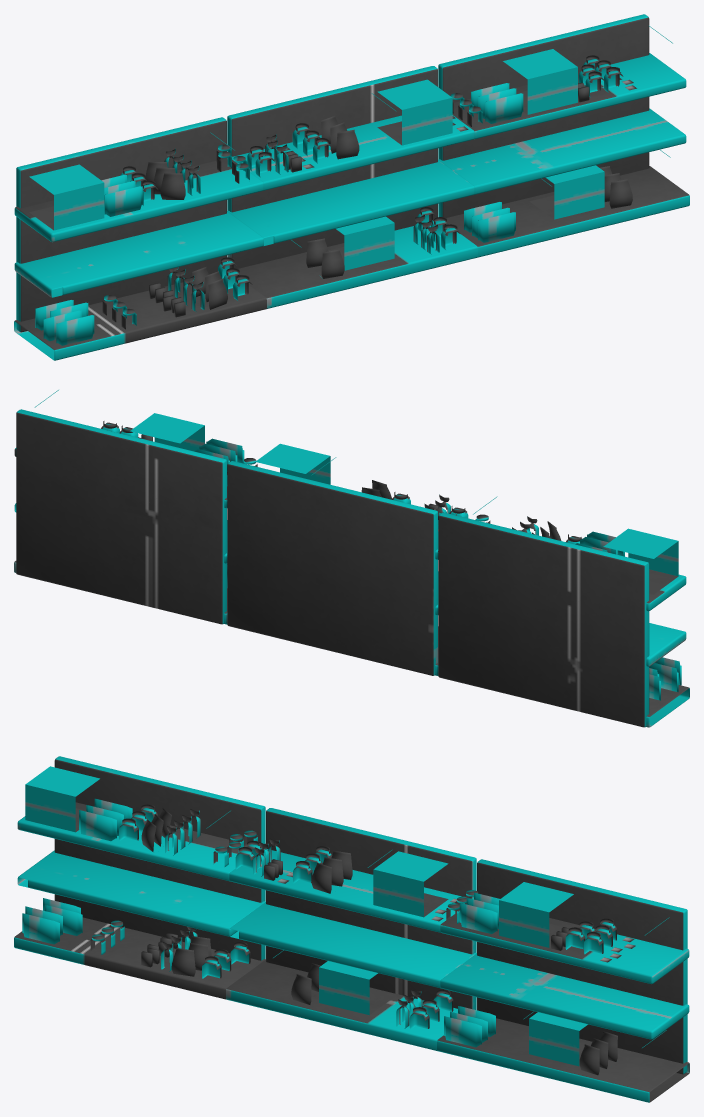
The model's file is RepartoPaneDolci.fbx.
The picture shows the model from 3 angles, top to bottom: view 1: azimuth 30°, elevation 25°; view 2: azimuth 150°, elevation 25°; view 3: azimuth 330°, elevation 25°; orthographic projection.
Visible parts, largest first — view 1: RepartoDolciEPane; view 2: RepartoDolciEPane; view 3: RepartoDolciEPane.
Boxes of the visible parts, x1=… form: RepartoDolciEPane: x1=14, y1=14, x2=689, y2=360; RepartoDolciEPane: x1=14, y1=390, x2=689, y2=727; RepartoDolciEPane: x1=14, y1=756, x2=689, y2=1102.
Bounding box in the file's own units: 1162 × 284 × 134.
